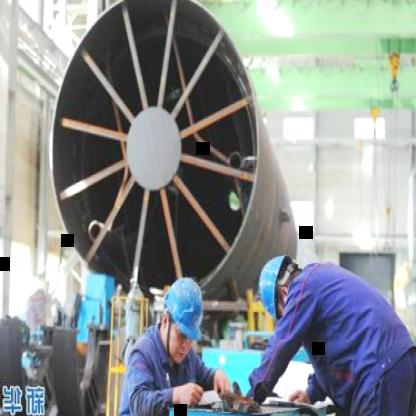helmet: (161, 275, 207, 361), (254, 244, 306, 320)
